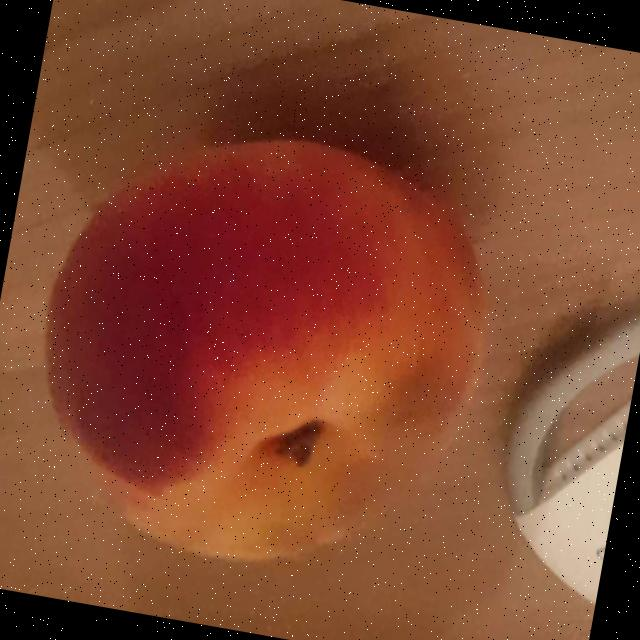peach: (46, 143, 479, 551)
